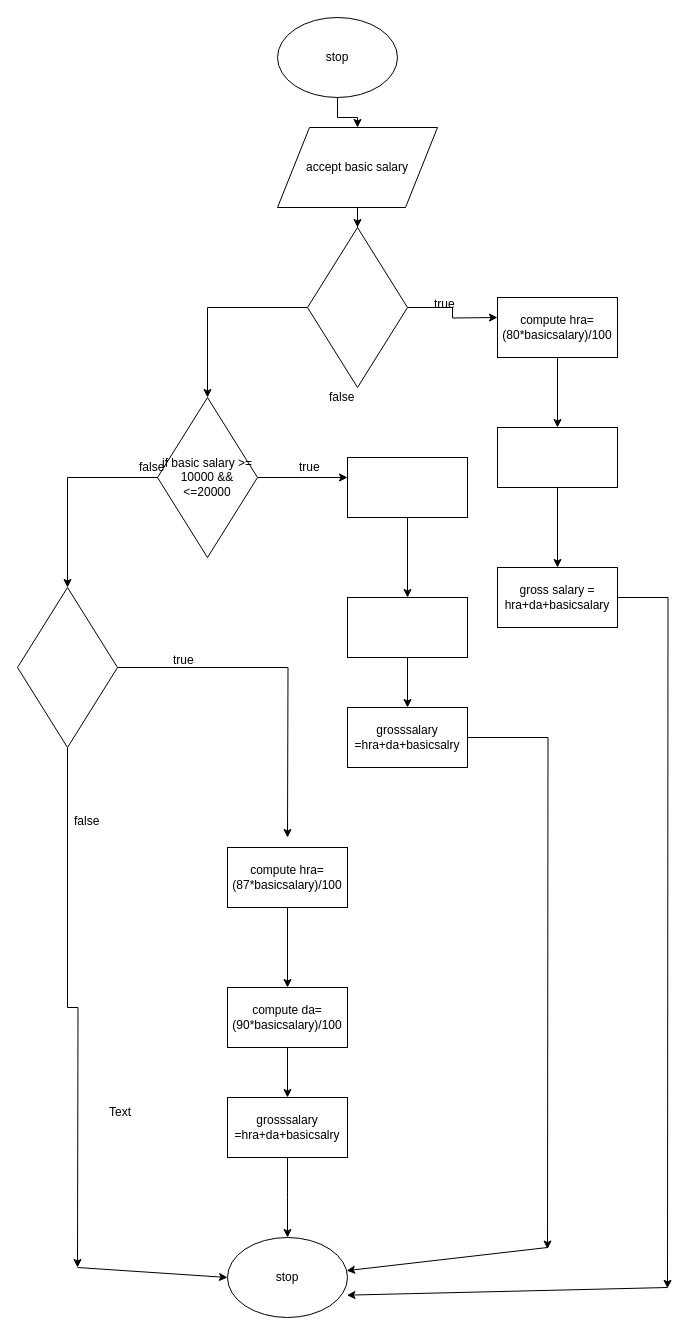
Some shapes in this 694 by 1335 pixel diagram are drawn without their labels. The shapes that lost their labels are listed below. From the top down, each one's centre as x and y in pixels, then its label:
At point (357, 307): "if basic salary <= 10000".
At point (557, 457): "compute da=(85*basicsalary)/100".
At point (407, 487): "compute hra=(83*basicsalary)/100".
At point (407, 627): "compute da=(87*basicsalary)/100".
At point (67, 667): "if basic salary >= >=20000".
